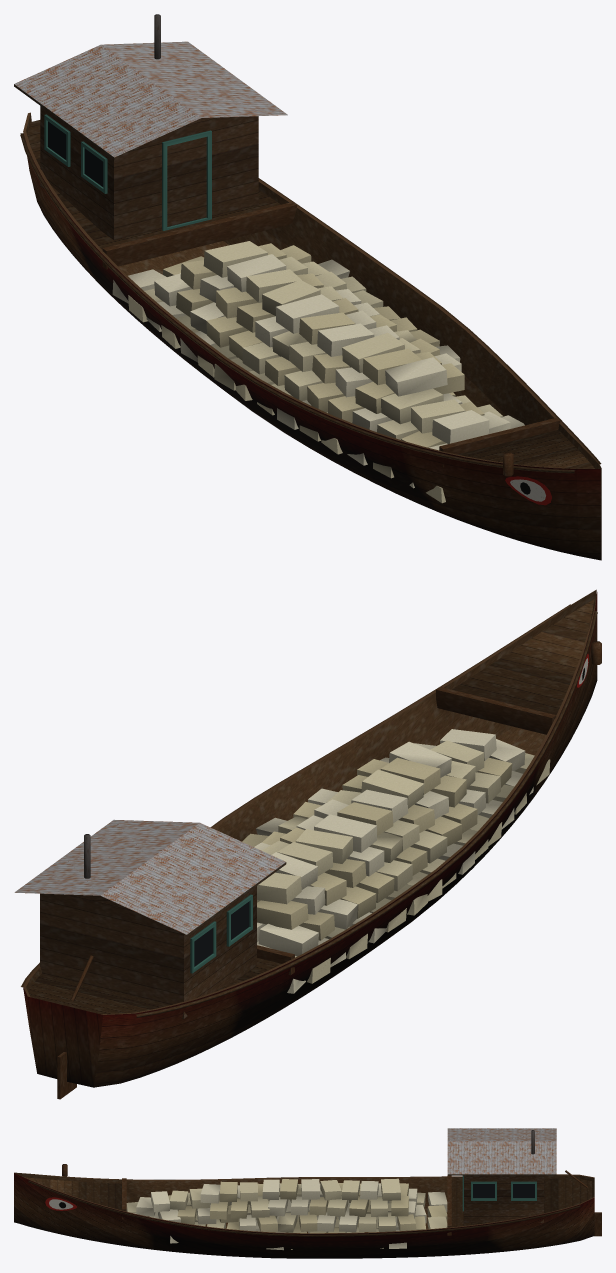
The model's file is cargo_boat.glb.
The picture shows the model from 3 angles, top to bottom: view 1: azimuth 30°, elevation 25°; view 2: azimuth 150°, elevation 25°; view 3: azimuth 270°, elevation 25°; orthographic projection. The views are drawn at different scales.
Visible parts, largest first — view 1: cargo_hull, cargo_sacks; view 2: cargo_hull, cargo_sacks; view 3: cargo_hull, cargo_sacks.
Part boxes in pixels (x1,y1,x2,y2): cargo_hull: (14,14,601,560); cargo_sacks: (112,241,524,503); cargo_hull: (14,589,601,1099); cargo_sacks: (242,729,550,993); cargo_hull: (14,1128,601,1258); cargo_sacks: (126,1178,447,1250).
Bounding box in the file's own units: 3.8 × 3.53 × 16.2.
8 materials, 6 textured.
